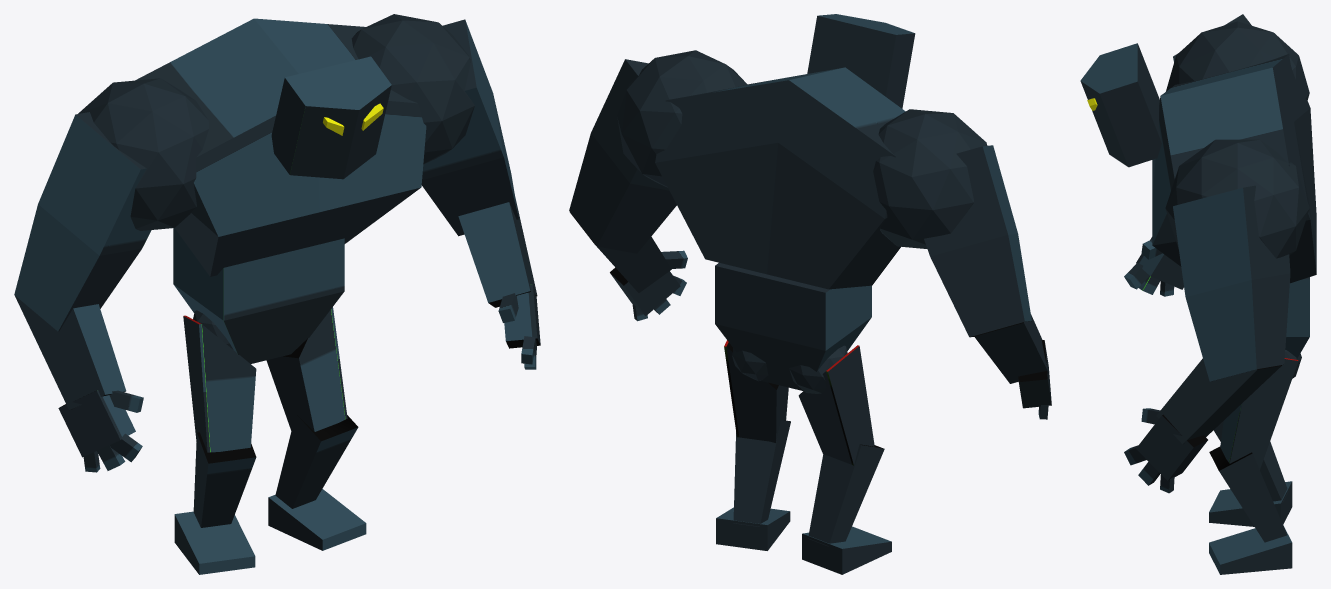
The model's file is SM_Golem-01.fbx.
3 renders of one model, left to right at view 1: azimuth 30°, elevation 25°; view 2: azimuth 150°, elevation 25°; view 3: azimuth 270°, elevation 25°, orthographic. The views are drawn at different scales.
Visible parts, largest first — view 1: Golem; view 2: Golem; view 3: Golem.
Boxes of the visible parts, bbox=[...] form: Golem: bbox=[14, 14, 540, 574]; Golem: bbox=[569, 14, 1051, 574]; Golem: bbox=[1080, 14, 1316, 574].
Size of the model in its own units: 2.38 by 2.38 by 1.07.
